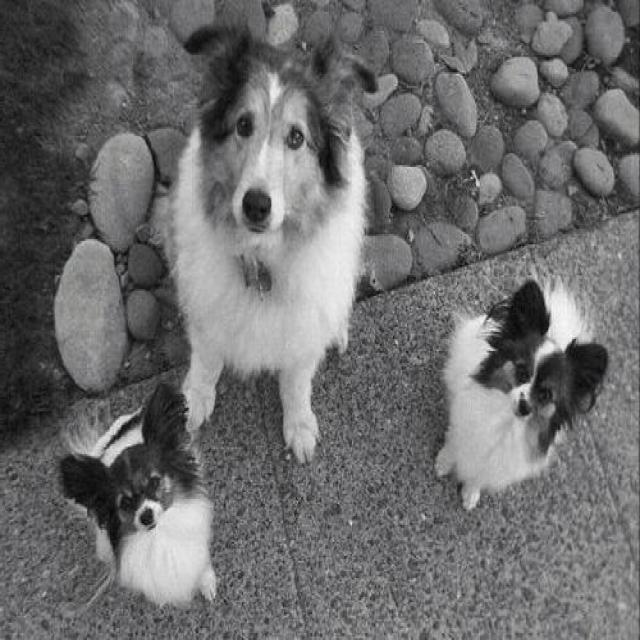papillon: (169, 22, 366, 464), (431, 260, 617, 512), (54, 377, 220, 611)
